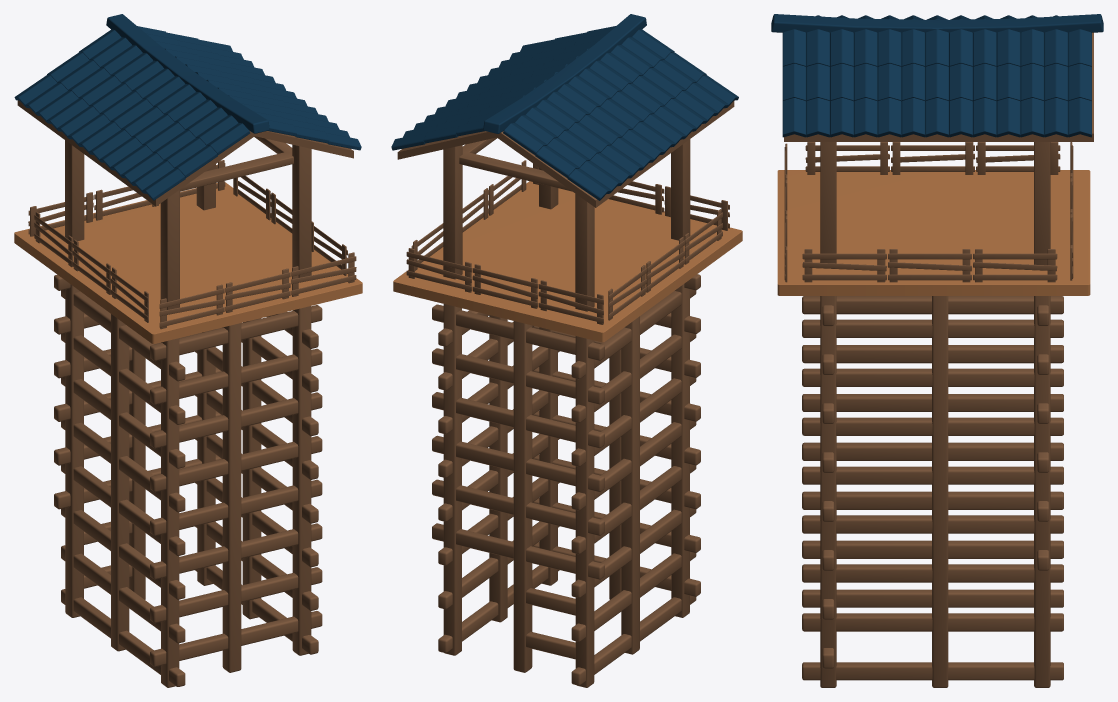
File: Tower_2.fbx
3 renders of one model, left to right at view 1: azimuth 30°, elevation 25°; view 2: azimuth 150°, elevation 25°; view 3: azimuth 270°, elevation 25°, orthographic. The views are drawn at different scales.
Visible parts, largest first — view 1: Tower_2; view 2: Tower_2; view 3: Tower_2.
Boxes of the visible parts, x1,y1,x2,y2 form: Tower_2: (14,14,362,687); Tower_2: (391,14,742,687); Tower_2: (771,14,1103,687).
Size of the model in its own units: 4693 by 11907 by 5676.
